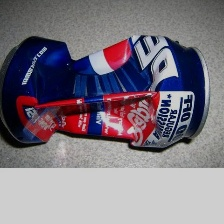can: (0, 34, 211, 152)
